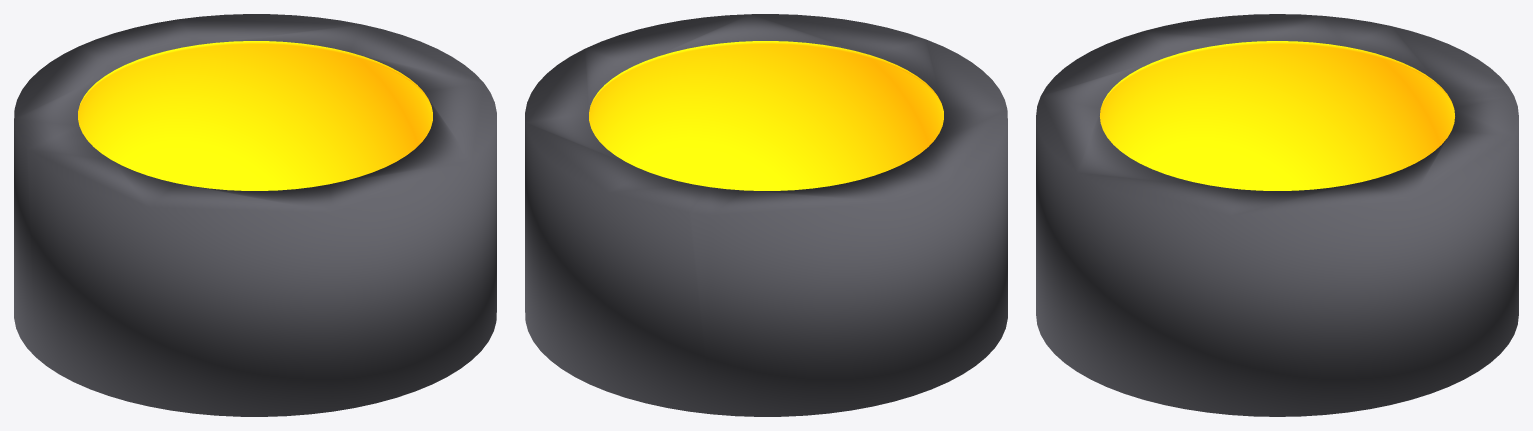
File: heating_mantle.glb
3 views of the same model, side by side, from view 1: azimuth 30°, elevation 25°; view 2: azimuth 150°, elevation 25°; view 3: azimuth 270°, elevation 25° (orthographic).
Visible parts, largest first — view 1: Mantle_Outer; view 2: Mantle_Outer; view 3: Mantle_Outer.
Part boxes in pixels (x1,y1,x2,y2): Mantle_Outer: (14,14,496,416); Mantle_Outer: (525,14,1007,416); Mantle_Outer: (1036,14,1518,416).
Bounding box in the file's own units: 0.11 × 0.05 × 0.11.
